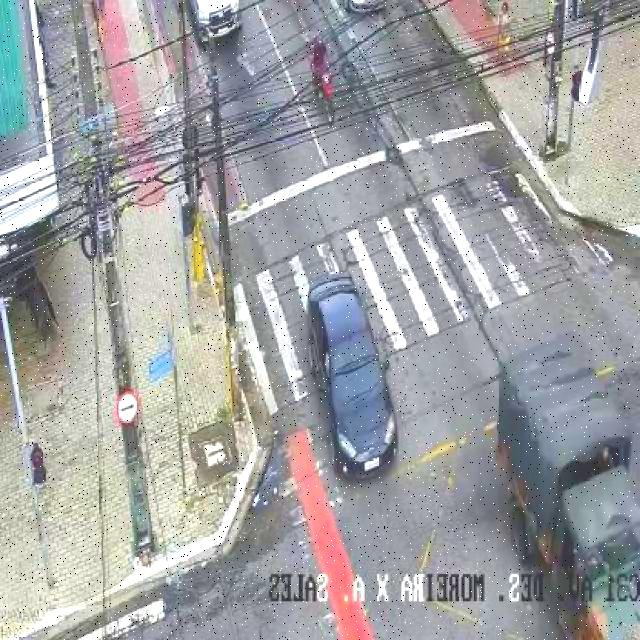Car: (307, 268, 399, 482), (183, 0, 244, 49)
Cycle: (312, 71, 341, 126)
Truck: (497, 330, 640, 640)
